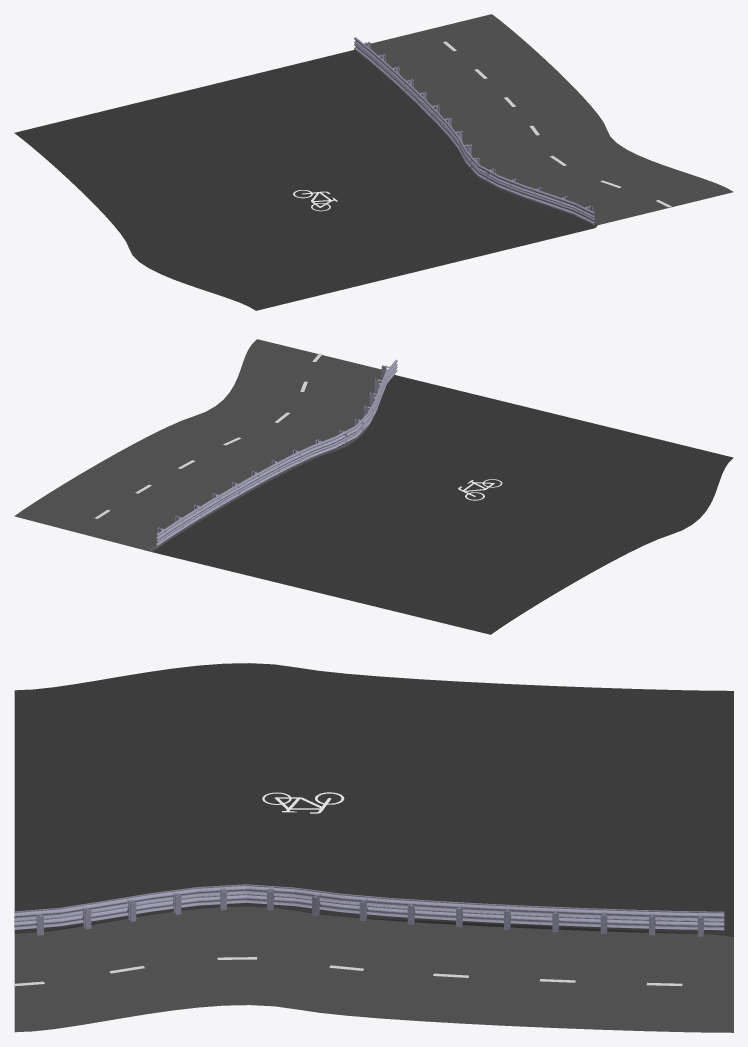
The model's file is Straße.glb.
3 views of the same model, one above another, from view 1: azimuth 30°, elevation 25°; view 2: azimuth 150°, elevation 25°; view 3: azimuth 270°, elevation 25° (orthographic). The views are drawn at different scales.
Visible parts, largest first — view 1: BézierCurve.002, Plane.003; view 2: BézierCurve.002, Plane.003; view 3: BézierCurve.002, Plane.003, Plane.
Part boxes in pixels (x1,y1,x2,y2): BézierCurve.002: (14, 14, 733, 310); Plane.003: (354, 37, 595, 224); BézierCurve.002: (14, 339, 733, 634); Plane.003: (156, 359, 397, 546); BézierCurve.002: (14, 663, 733, 1032); Plane.003: (14, 884, 724, 936); Plane: (14, 957, 682, 986).
Size of the model in its own units: 73.57 by 2.11 by 60.02.
